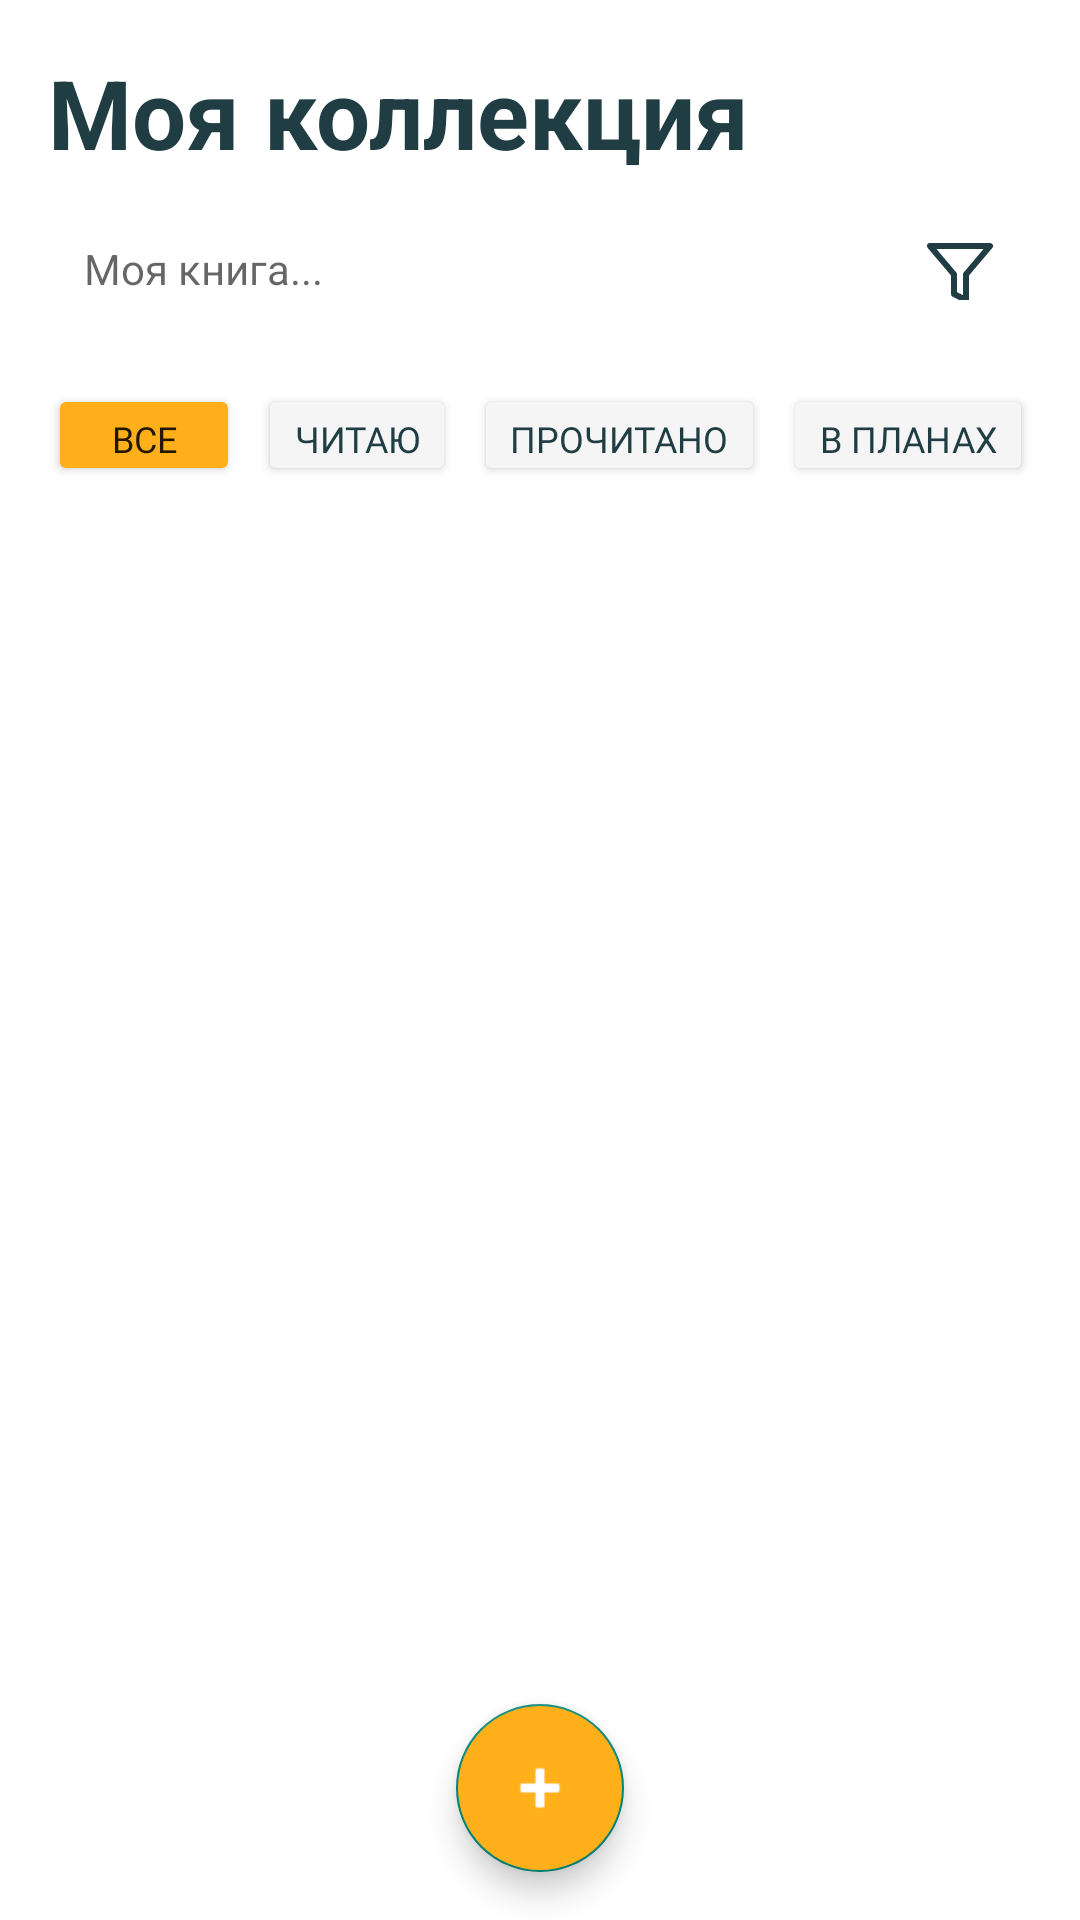

Point at icon controls on the screen. Image size 1080 × 1920, points as (x=x, y=y).
filter: (x=960, y=271)
Новая книга: (x=540, y=1788)
